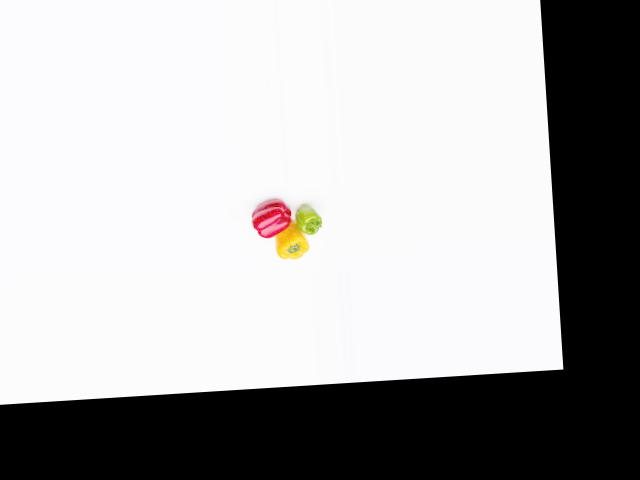bell_pepper: (293, 202, 329, 238)
